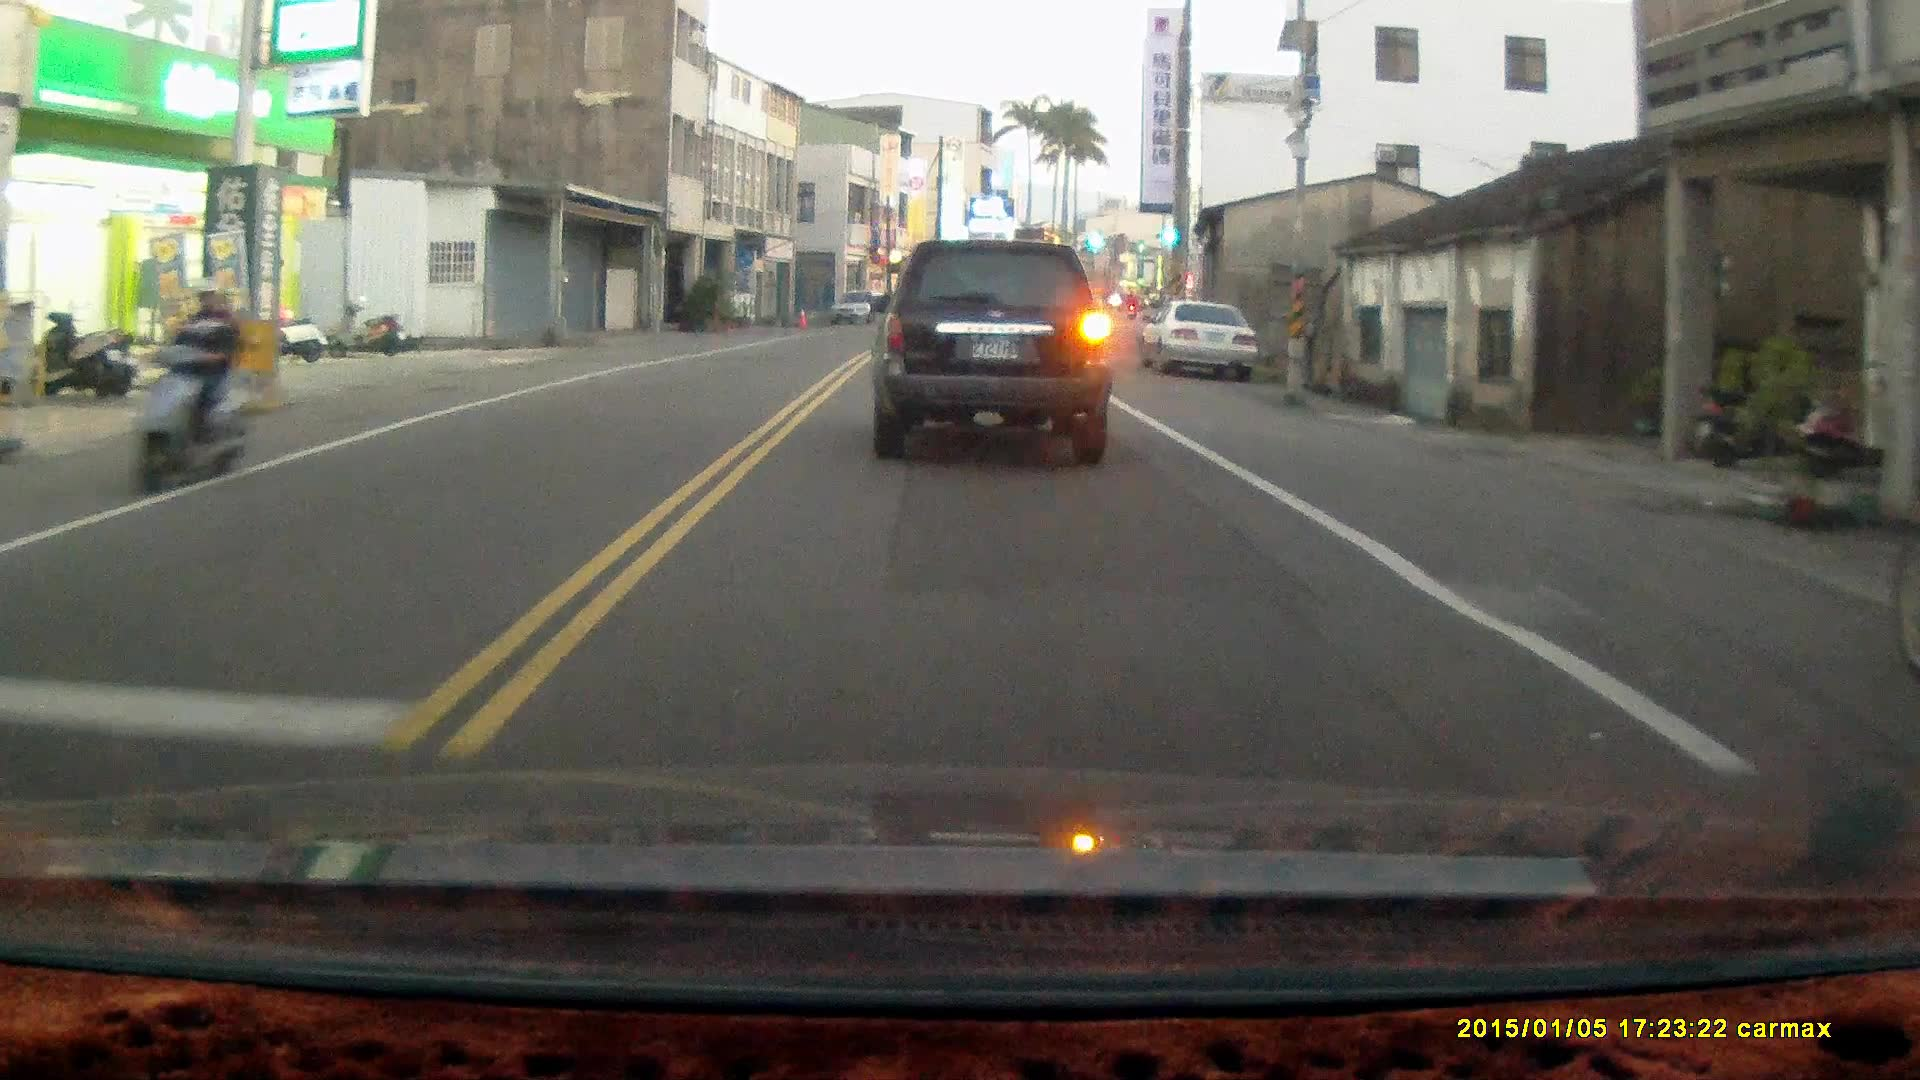rider: (126, 272, 252, 499)
vehicle: (872, 233, 1117, 461), (1142, 301, 1255, 380)
